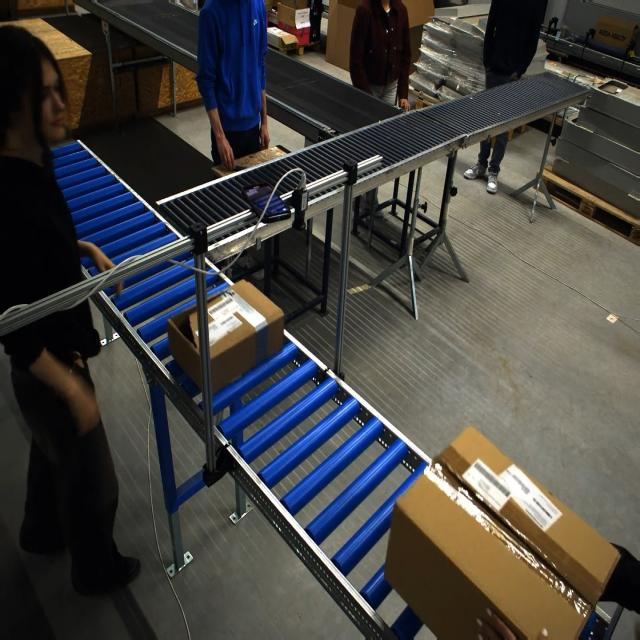box: (392, 429, 622, 640), (167, 278, 285, 396)
